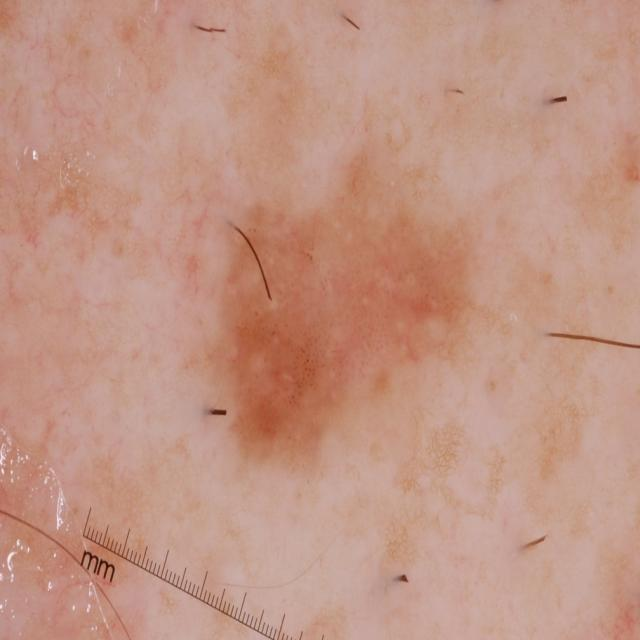Benign: (173, 161, 488, 466)
